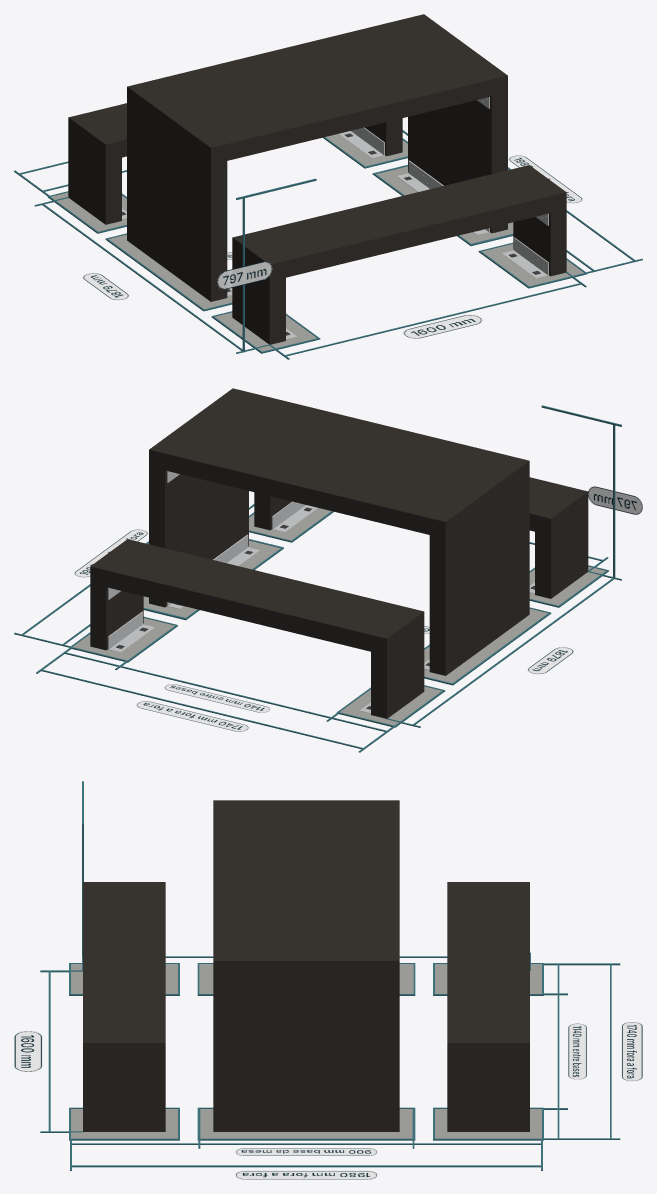
Rendered from conjunto-3a.glb.
3 renders of one model, top to bottom at view 1: azimuth 30°, elevation 25°; view 2: azimuth 150°, elevation 25°; view 3: azimuth 270°, elevation 25°, orthographic. The views are drawn at different scales.
Parts seen in each view (by area): view 1: Geo0, FxGeo, Geo1, CL, FxFr, CHn, CWn, FL, CDn, FT3; view 2: Geo0, FxGeo, Geo1, FL, FxFr, CL, FT1, CHn, FT0, CDn, FT3; view 3: Geo0, FxGeo, FL, FxFr, FT3, FT1, CL, FT2, CWn, FT0.
Boxes of the visible parts, bbox=[...] form: Geo0: bbox=[68, 14, 566, 344]; FxGeo: bbox=[51, 134, 583, 351]; Geo1: bbox=[122, 97, 548, 339]; CL: bbox=[34, 178, 586, 359]; FxFr: bbox=[47, 137, 587, 353]; CHn: bbox=[217, 261, 272, 289]; CWn: bbox=[402, 315, 482, 338]; FL: bbox=[14, 130, 642, 273]; CDn: bbox=[83, 273, 128, 300]; FT3: bbox=[509, 155, 582, 203]; Geo0: bbox=[90, 388, 588, 718]; FxGeo: bbox=[73, 508, 605, 725]; Geo1: bbox=[108, 471, 534, 713]; FL: bbox=[14, 504, 394, 752]; FxFr: bbox=[69, 511, 608, 727]; CL: bbox=[387, 405, 621, 727]; FT1: bbox=[136, 701, 248, 731]; CHn: bbox=[588, 486, 642, 514]; FT0: bbox=[164, 684, 270, 712]; CDn: bbox=[528, 647, 573, 674]; FT3: bbox=[74, 529, 147, 577]; Geo0: bbox=[83, 800, 529, 1131]; FxGeo: bbox=[71, 964, 541, 1138]; FL: bbox=[70, 963, 620, 1170]; FxFr: bbox=[69, 963, 543, 1140]; FT3: bbox=[235, 1171, 377, 1179]; FT1: bbox=[622, 1022, 642, 1081]; CL: bbox=[40, 781, 530, 1132]; FT2: bbox=[235, 1148, 377, 1155]; CWn: bbox=[14, 1031, 41, 1071]; FT0: bbox=[568, 1023, 586, 1079].
Bounding box in the file's own units: 2.46 × 0.801 × 2.64.
Materials: 13 (8 with a texture image).
